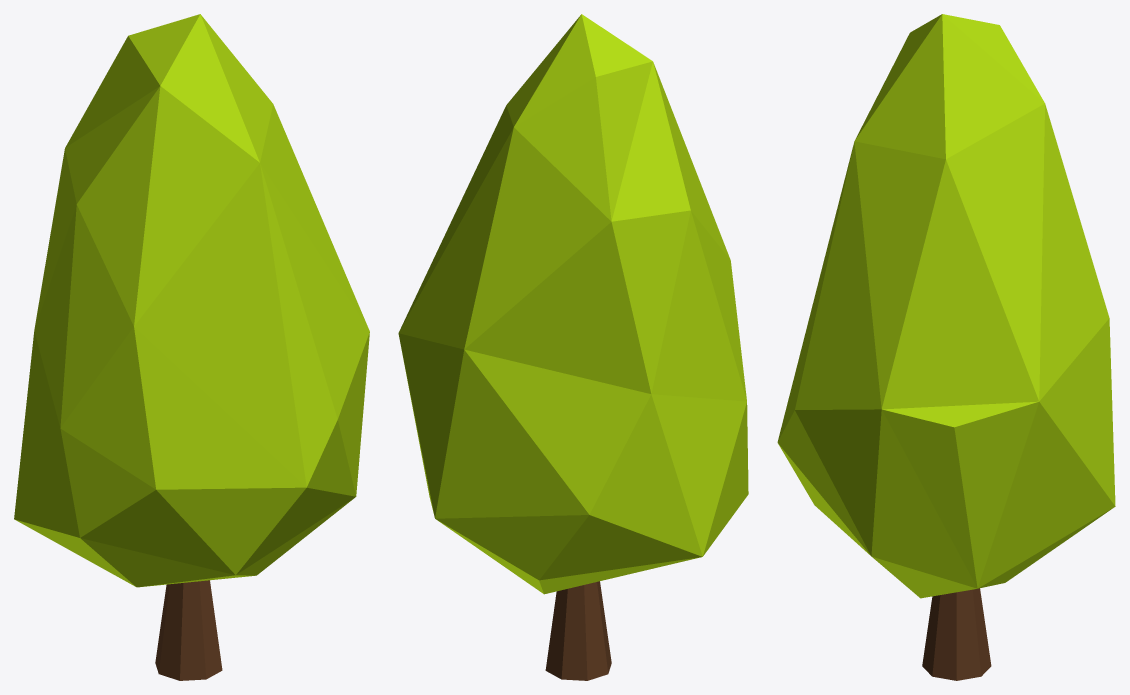
The model's file is SmallTreeB.fbx.
3 renders of one model, left to right at view 1: azimuth 30°, elevation 25°; view 2: azimuth 150°, elevation 25°; view 3: azimuth 270°, elevation 25°, orthographic.
Parts seen in each view (by area): view 1: SmallTreeB_geo; view 2: SmallTreeB_geo; view 3: SmallTreeB_geo.
Boxes of the visible parts, x1,y1,x2,y2 form: SmallTreeB_geo: (14,14,369,680); SmallTreeB_geo: (398,14,748,680); SmallTreeB_geo: (777,14,1115,680).
Bounding box in the file's own units: 128 × 261 × 122.
